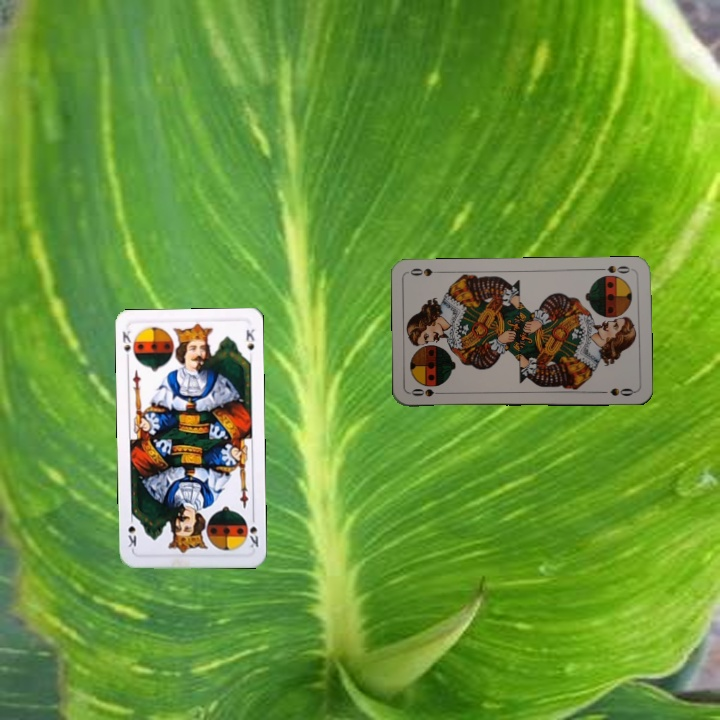SK: (245, 511, 261, 552), (118, 326, 133, 365)
SO: (407, 385, 448, 399), (594, 262, 635, 276)
